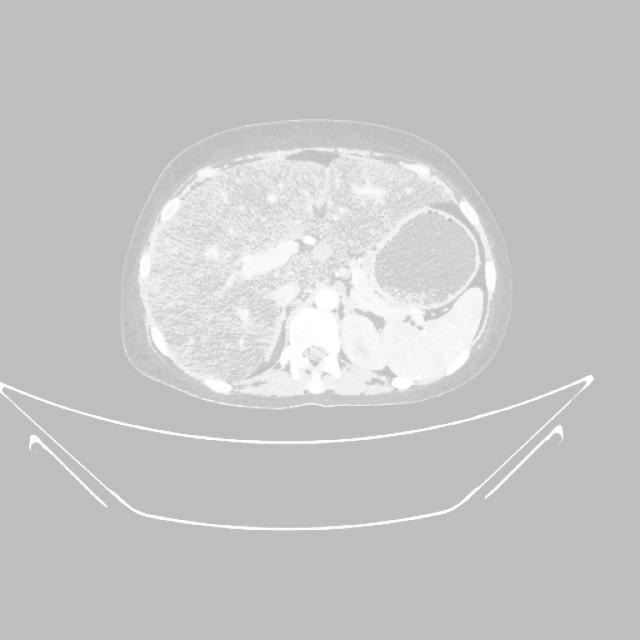NORMAL: (132, 116, 516, 412)
